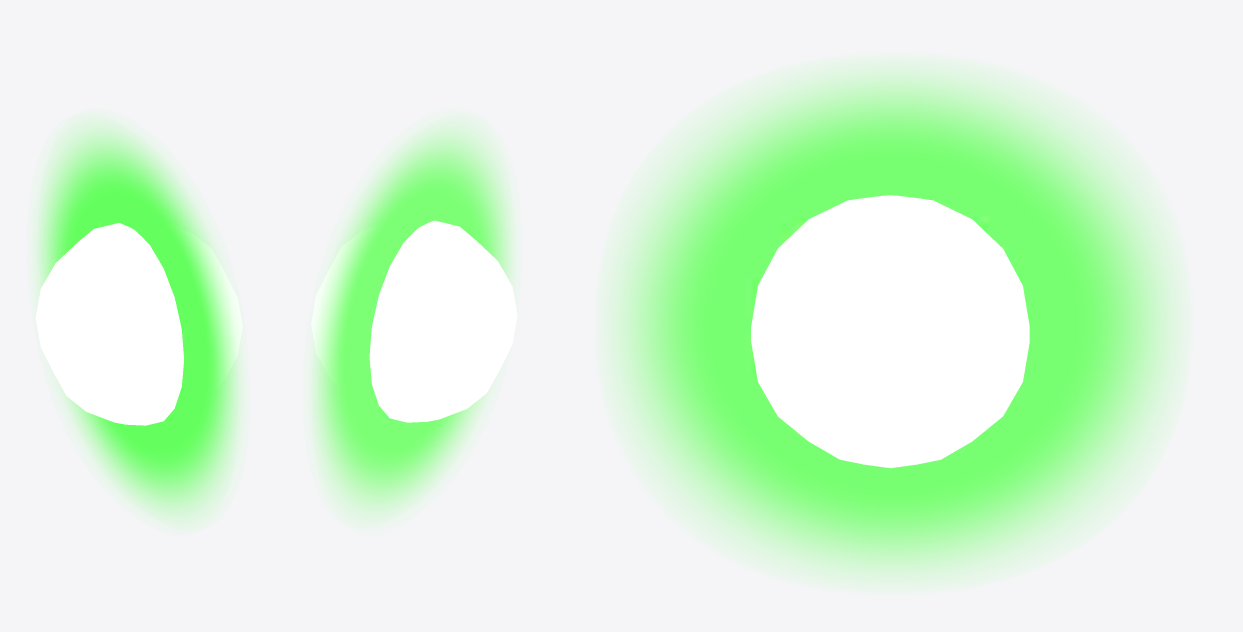
The picture shows the model from 3 angles, left to right: view 1: azimuth 30°, elevation 25°; view 2: azimuth 150°, elevation 25°; view 3: azimuth 270°, elevation 25°; orthographic projection. The views are drawn at different scales.
Visible parts, largest first — view 1: Plane.006; view 2: Plane.006; view 3: Plane.006.
Boxes of the visible parts, x1,y1,x2,y2 form: Plane.006: (35, 124, 242, 519); Plane.006: (311, 124, 517, 517); Plane.006: (611, 68, 1175, 579).
Bounding box in the file's own units: 0.103 × 0.2346 × 0.2343.
Materials: 2 (1 with a texture image).
